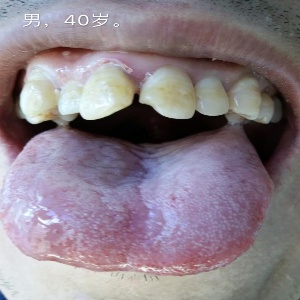st: (11, 130, 277, 283)
